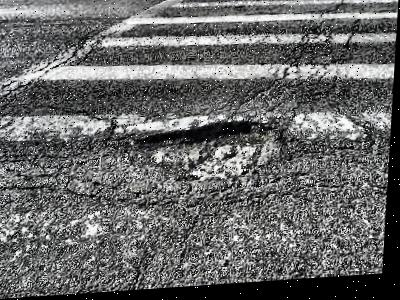pothole: (125, 118, 305, 192)
